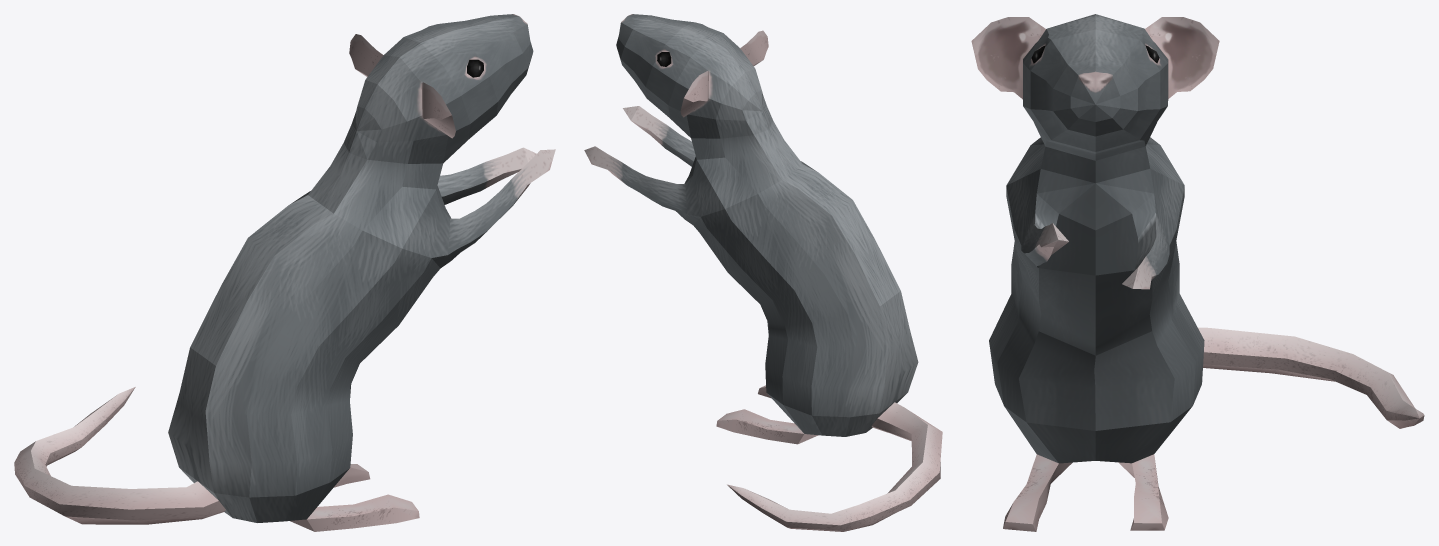
The model's file is rat.glb.
3 renders of one model, left to right at view 1: azimuth 30°, elevation 25°; view 2: azimuth 150°, elevation 25°; view 3: azimuth 270°, elevation 25°, orthographic. The views are drawn at different scales.
Parts seen in each view (by area): view 1: pSphere5; view 2: pSphere5; view 3: pSphere5.
Boxes of the visible parts, x1,y1,x2,y2 form: pSphere5: (14, 14, 555, 531); pSphere5: (584, 14, 942, 531); pSphere5: (971, 14, 1424, 531).
Bounding box in the file's own units: 5.81 × 5.49 × 4.08.
1 material, 1 textured.
